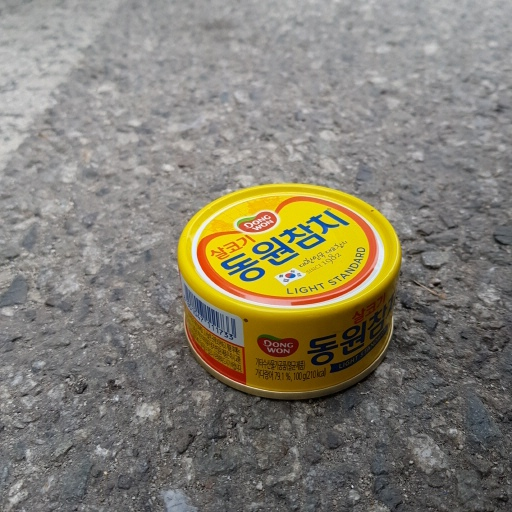Metal_1: (177, 182, 404, 405)
